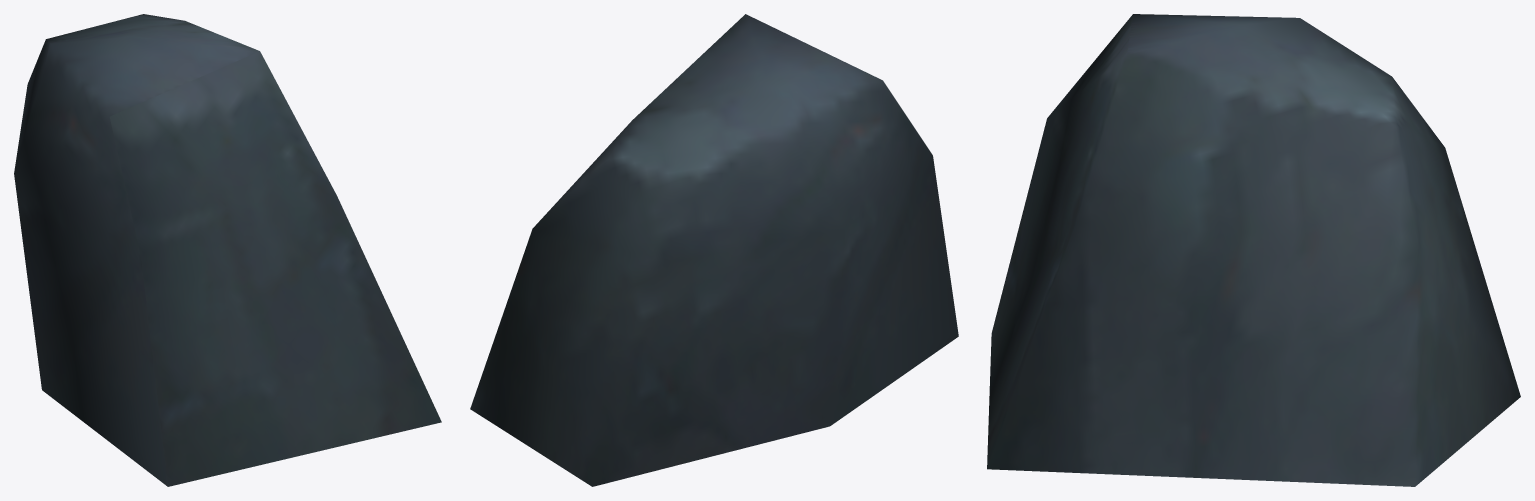
File: Area_10_10.fbx
3 renders of one model, left to right at view 1: azimuth 30°, elevation 25°; view 2: azimuth 150°, elevation 25°; view 3: azimuth 270°, elevation 25°, orthographic. The views are drawn at different scales.
Parts seen in each view (by area): view 1: Area_10_10; view 2: Area_10_10; view 3: Area_10_10.
Boxes of the visible parts, x1,y1,x2,y2 form: Area_10_10: [14, 14, 441, 486]; Area_10_10: [470, 14, 958, 486]; Area_10_10: [987, 14, 1520, 486].
Size of the model in its own units: 958 by 985 by 1335.
